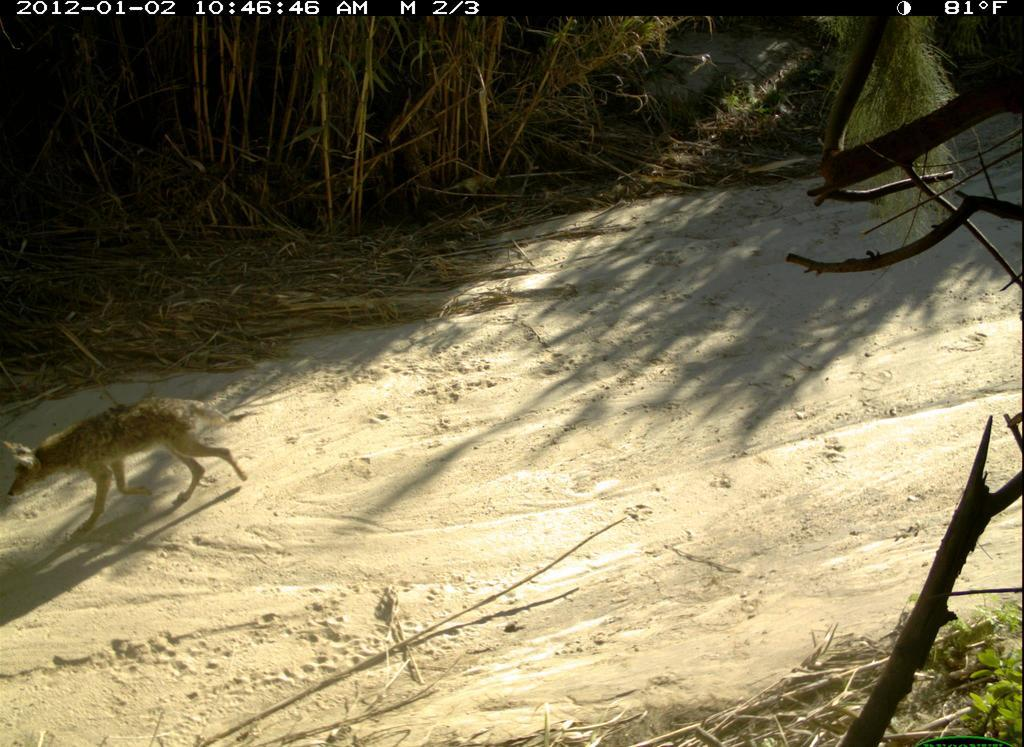coyote: (6, 379, 255, 551)
